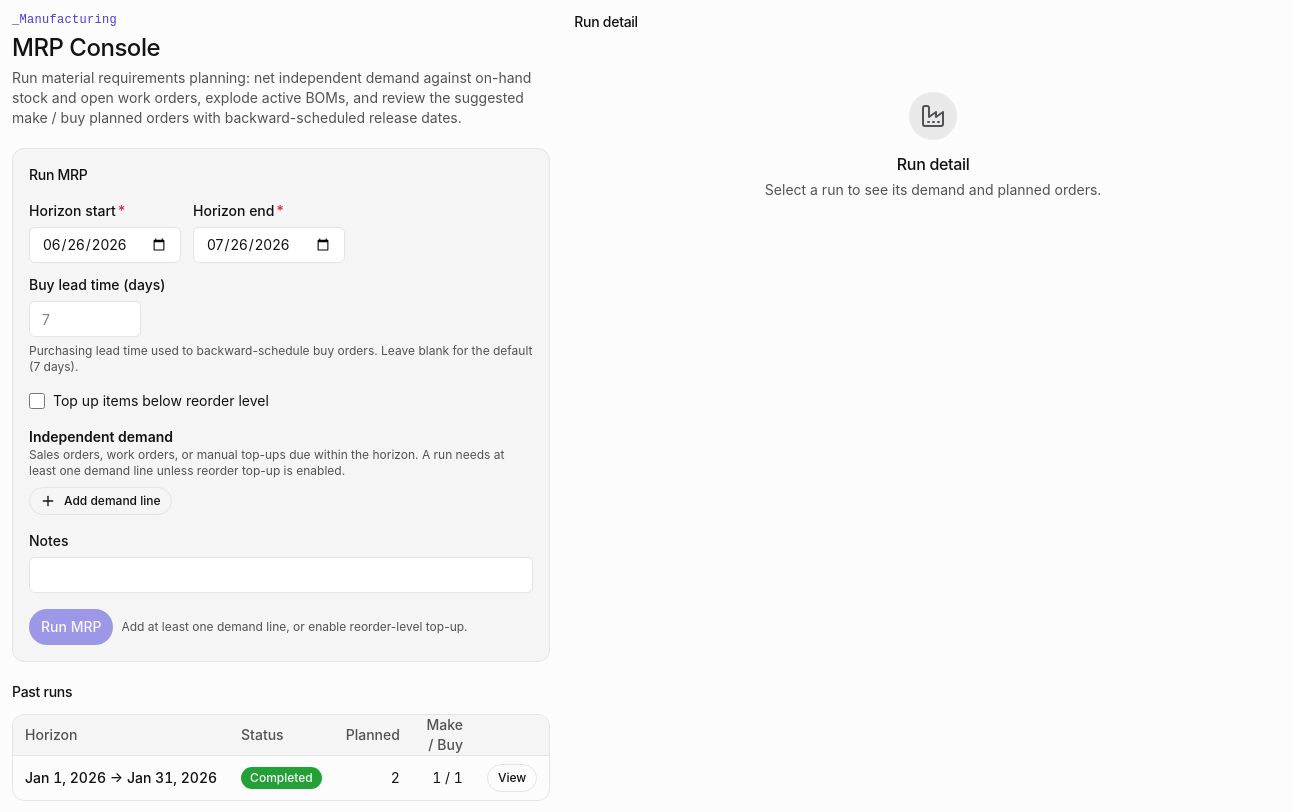
Test: MrpPage › requires demand or reorder top-up before running
Expected: the text "Jan 1, 2026 → Jan 31, 2026" is shown, [13, 756, 229, 800]
Expected: the button "Run MRP" is disabled, [29, 609, 114, 645]
An empty demand row (no item picked) must not arm the submit.
Click the button "Add demand line" at [100, 501], box [29, 487, 172, 515]
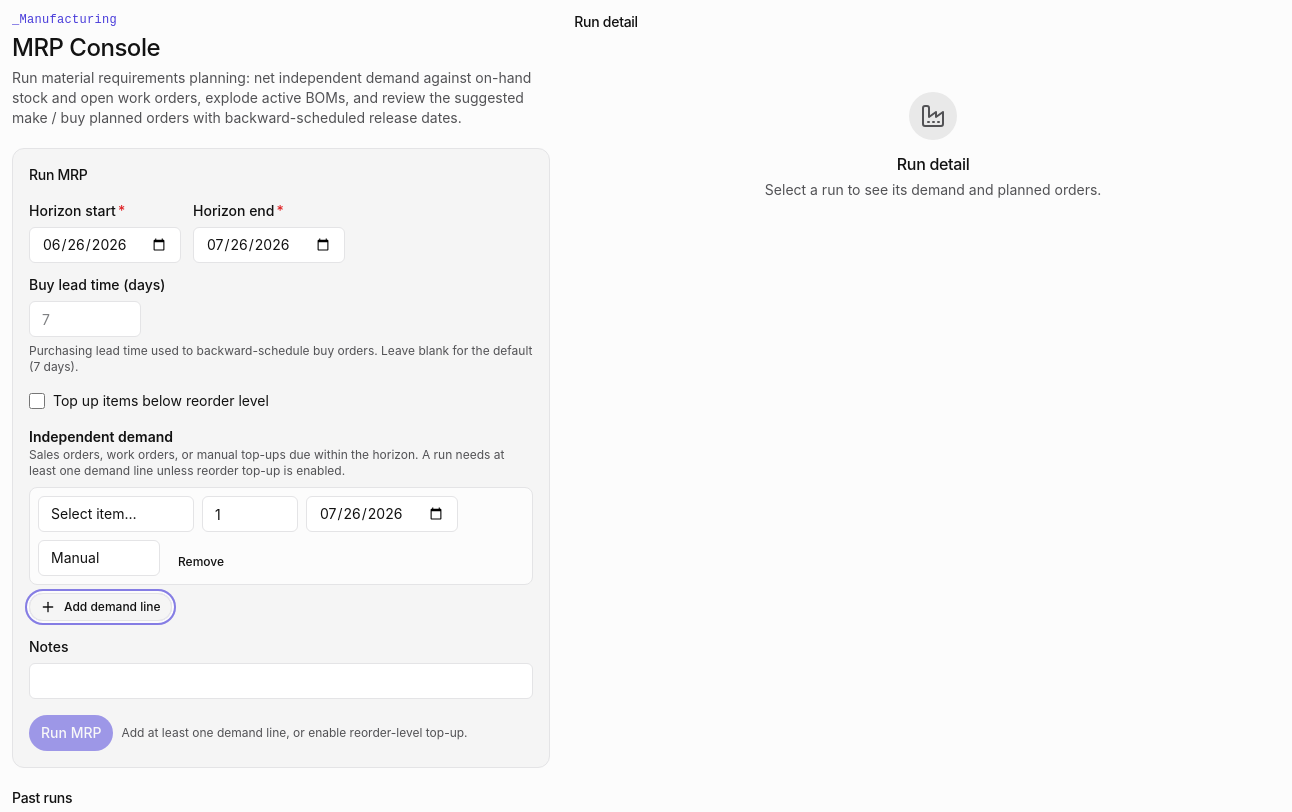
Expected: the button "Run MRP" is disabled, [29, 715, 114, 751]
Select "SKU-1 — Widget" in the dropdown named "Item 1" at [116, 514], box [38, 496, 194, 532]
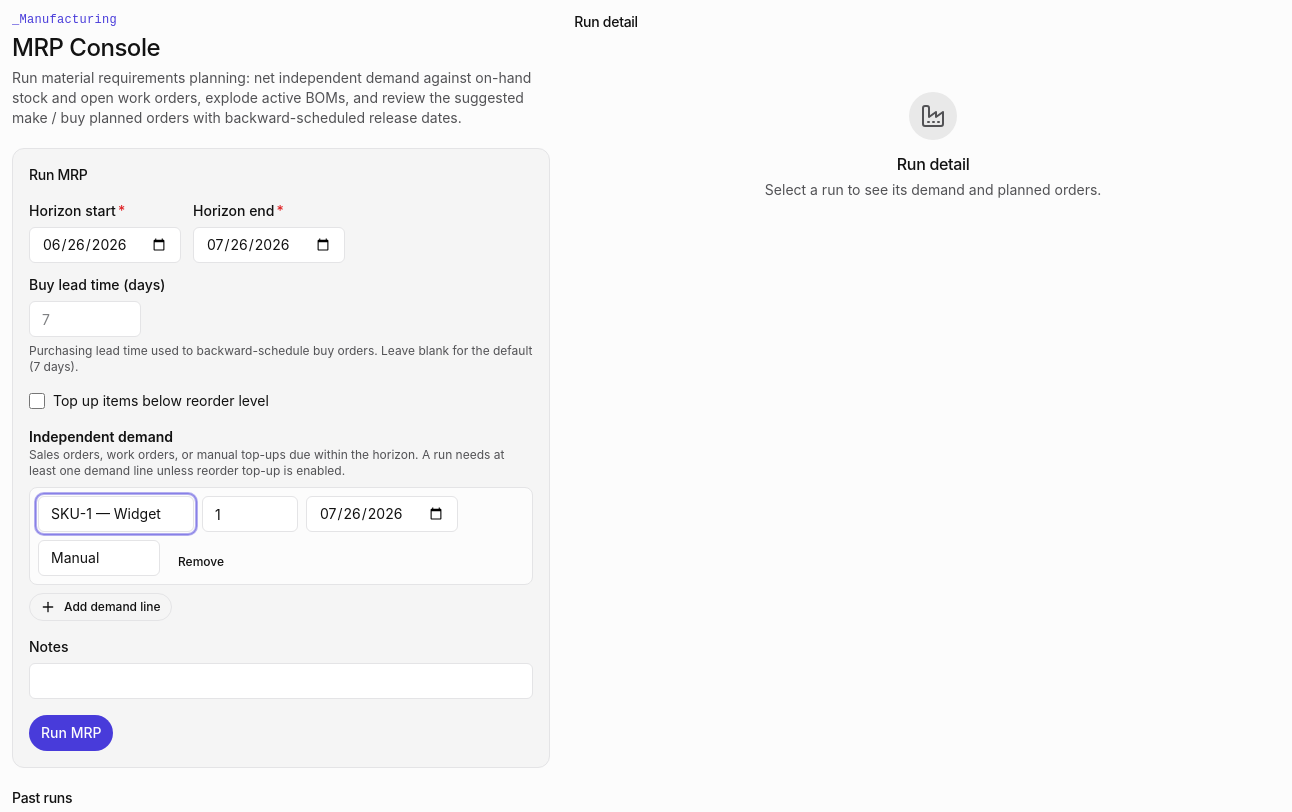
Expected: the button "Run MRP" is enabled, [29, 715, 114, 751]
Click the button "Remove" at [201, 562], box [168, 548, 234, 576]
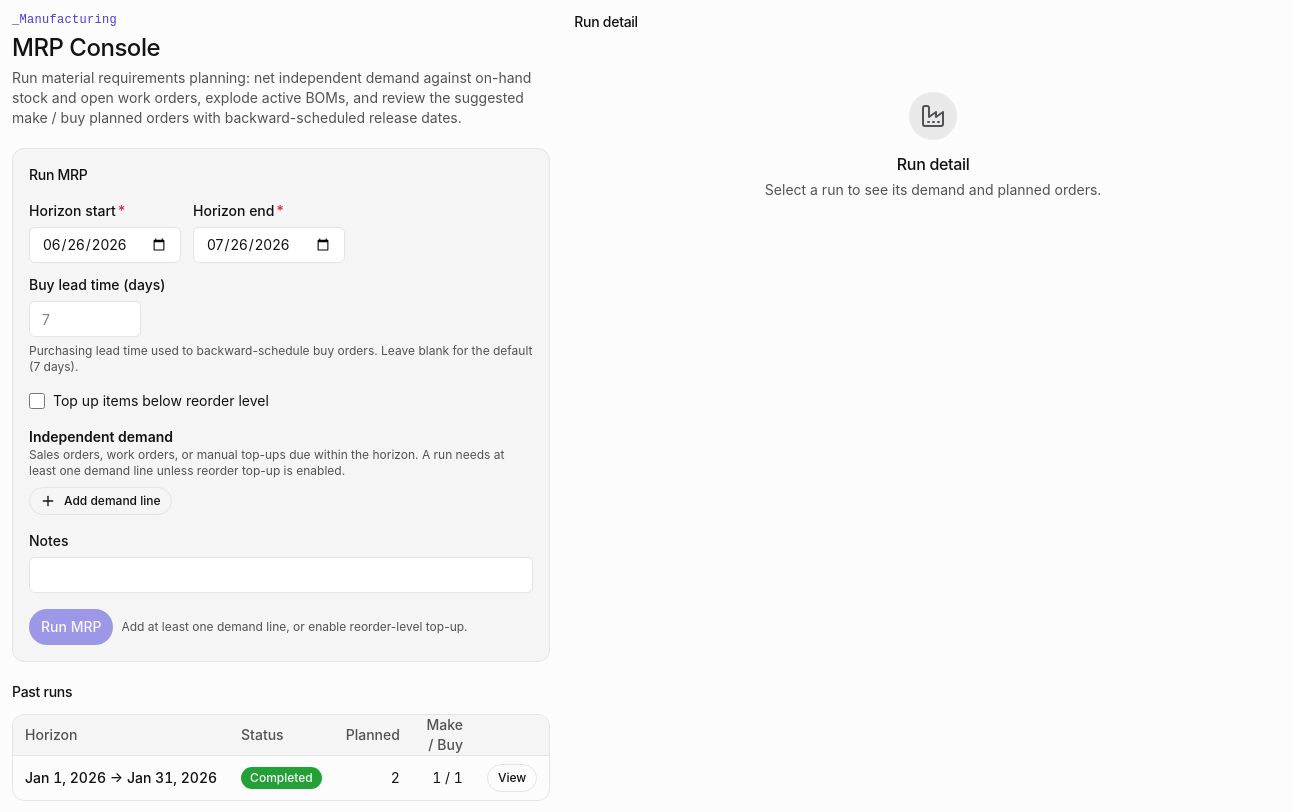
Expected: the button "Run MRP" is disabled, [29, 609, 114, 645]
Click the checkbox labelled "Top up items below reorder level" at [37, 401], box [29, 393, 45, 409]
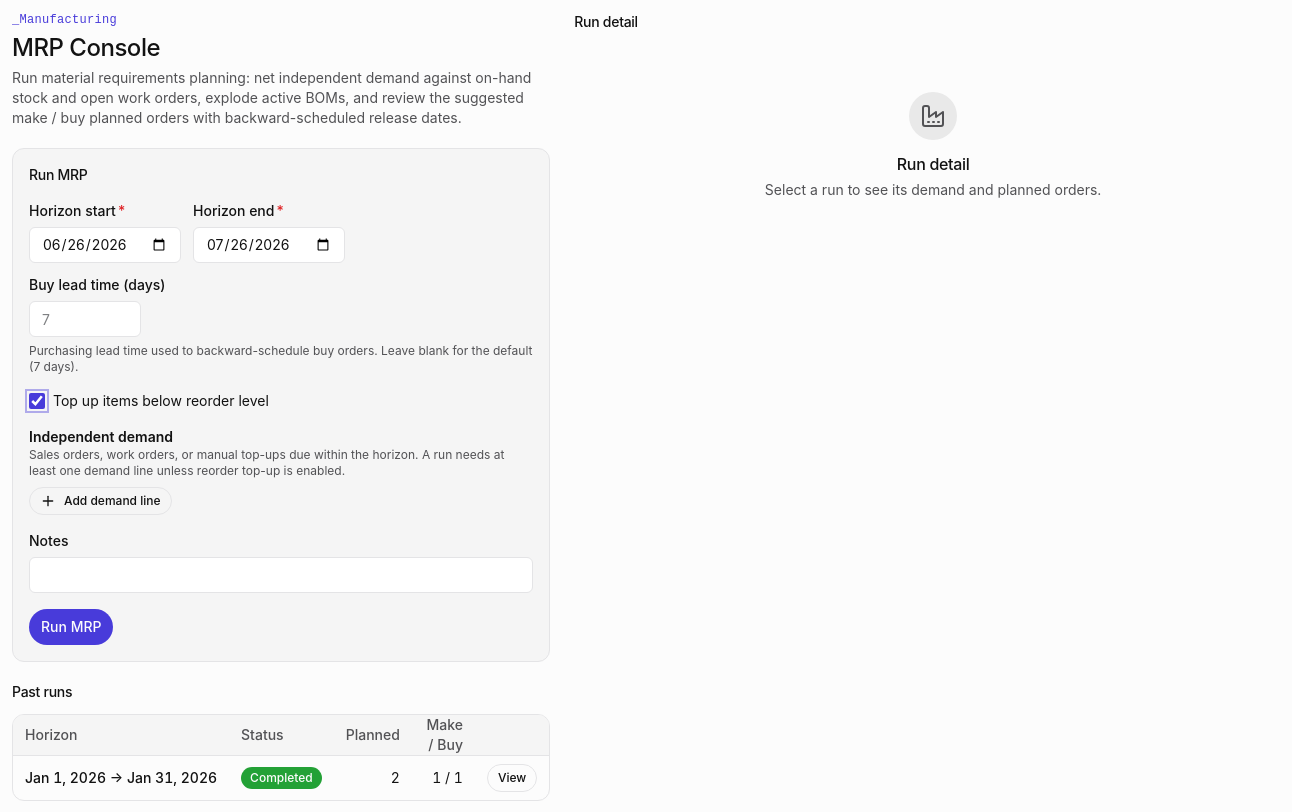
Expected: the button "Run MRP" is enabled, [29, 609, 114, 645]
